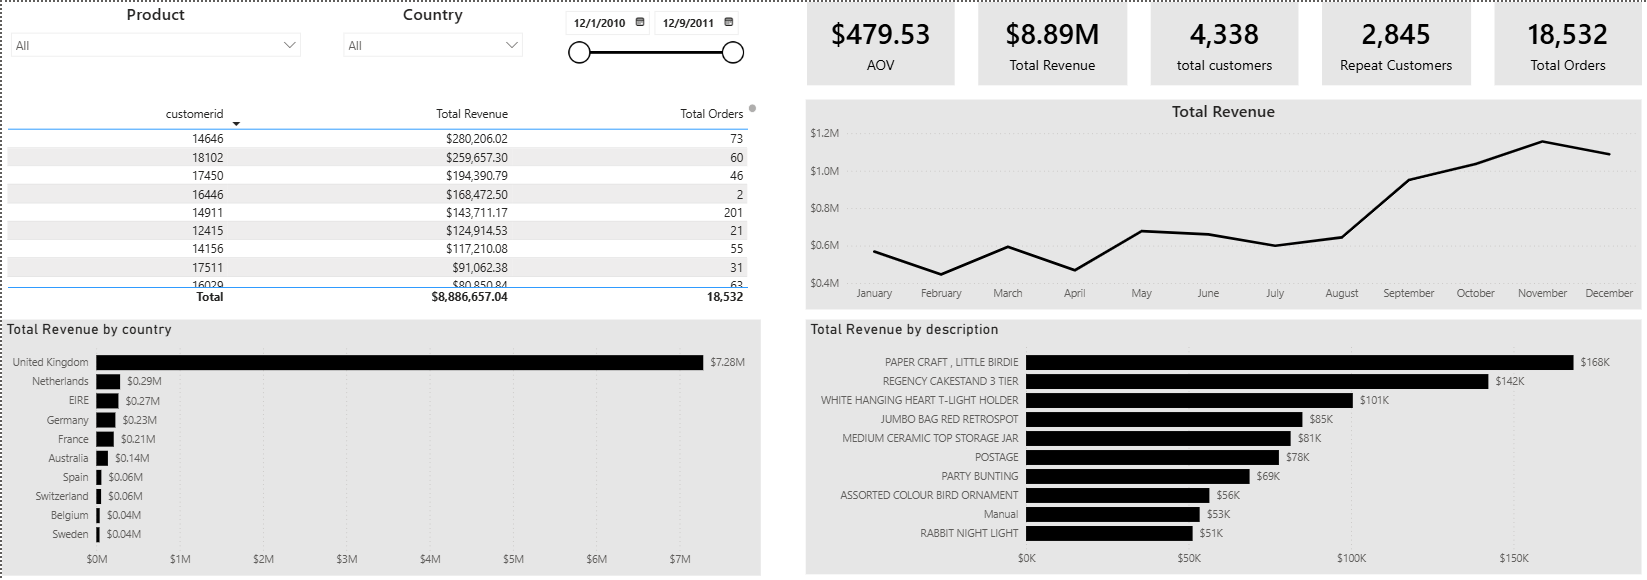

This screenshot's page, from the dashboard's own definition file:
{"tool":"powerbi","page":{"name":"Performance","canvas":[1900,720],"ordinal":0},"visuals":[{"type":"card","fields":{"Values":["public fact_sales.AOV"]},"box":[919.3,-0.7,168.8,95],"z":1000},{"type":"card","fields":{"Values":["public fact_sales.Total Revenue"]},"box":[1115.3,-0.7,170,95],"z":2000},{"type":"card","fields":{"Values":["public fact_sales.Total Orders"]},"box":[1705.6,-0.7,168.8,95],"z":3000},{"type":"card","fields":{"Values":["public fact_sales.total customers"]},"box":[1312.5,-0.7,168.8,95],"z":4000},{"type":"lineChart","title":"Total Revenue","fields":{"Y":["public fact_sales.Total Revenue"],"Category":["public fact_sales.invoicedate.Variation.Date Hierarchy.Year","public fact_sales.invoicedate.Variation.Date Hierarchy.Month"]},"box":[918,112,955,240],"z":5000},{"type":"barChart","fields":{"Category":["public dim_customer.country"],"Y":["public fact_sales.Total Revenue"]},"box":[0,362.9,867.1,292.9],"z":6000},{"type":"barChart","fields":{"Y":["public fact_sales.Total Revenue"],"Category":["public dim_product.description"]},"box":[918,363.3,955,291.2],"z":7000},{"type":"tableEx","fields":{"Values":["public fact_sales.customerid","public fact_sales.Total Revenue","public fact_sales.Total Orders"]},"box":[0,111.4,867.1,240],"z":8000},{"type":"card","fields":{"Values":["public fact_sales.repeat customers"]},"box":[1508.4,-0.7,170,95],"z":9000},{"type":"slicer","fields":{"Values":["public fact_sales.invoicedate"]},"box":[631.7,0,225,75],"z":10000},{"type":"slicer","title":"Country","fields":{"Values":["public dim_customer.country"]},"box":[380,0,225,75],"z":11000},{"type":"slicer","title":"Product","fields":{"Values":["public dim_product.description"]},"box":[0,0,351.2,75],"z":12000}]}

Visuals, with their boxes on the page's 1900x720 design canvas (x1, y1, x2, y2). These are canvas units, not pixel positions in the 1647x580 screenshot, which may show the page scaled, cropped or inside an application window:
card - public fact_sales.AOV: box=[919, -1, 1088, 94]
card - public fact_sales.Total Revenue: box=[1115, -1, 1285, 94]
card - public fact_sales.Total Orders: box=[1706, -1, 1874, 94]
card - public fact_sales.total customers: box=[1312, -1, 1481, 94]
"Total Revenue" lineChart: box=[918, 112, 1873, 352]
barChart - public dim_customer.country x public fact_sales.Total Revenue: box=[0, 363, 867, 656]
barChart - public fact_sales.Total Revenue x public dim_product.description: box=[918, 363, 1873, 654]
tableEx - public fact_sales.customerid x public fact_sales.Total Revenue: box=[0, 111, 867, 351]
card - public fact_sales.repeat customers: box=[1508, -1, 1678, 94]
slicer - public fact_sales.invoicedate: box=[632, 0, 857, 75]
"Country" slicer: box=[380, 0, 605, 75]
"Product" slicer: box=[0, 0, 351, 75]
